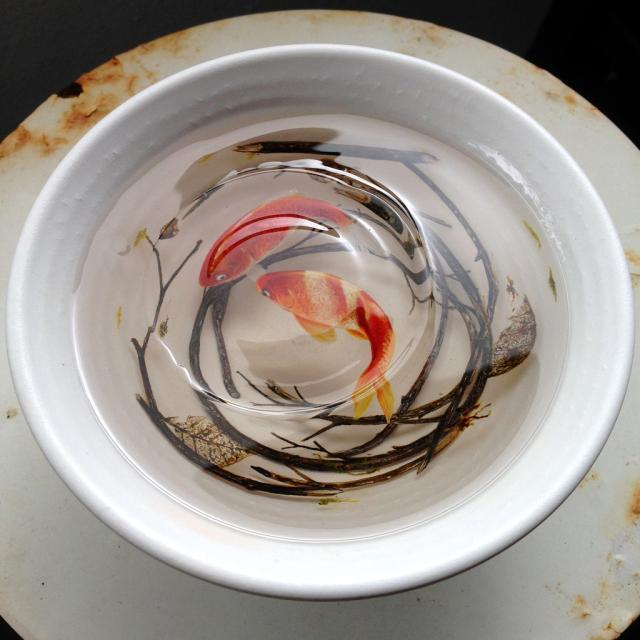ceramic plate: (19, 5, 640, 640)
